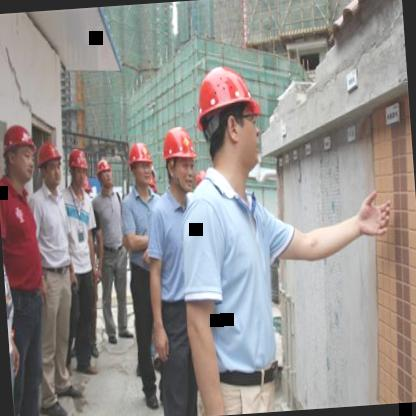helmet: (198, 61, 262, 177), (160, 124, 198, 196), (2, 120, 39, 182), (126, 140, 156, 194), (38, 139, 66, 189), (69, 147, 92, 192), (94, 155, 117, 194)
